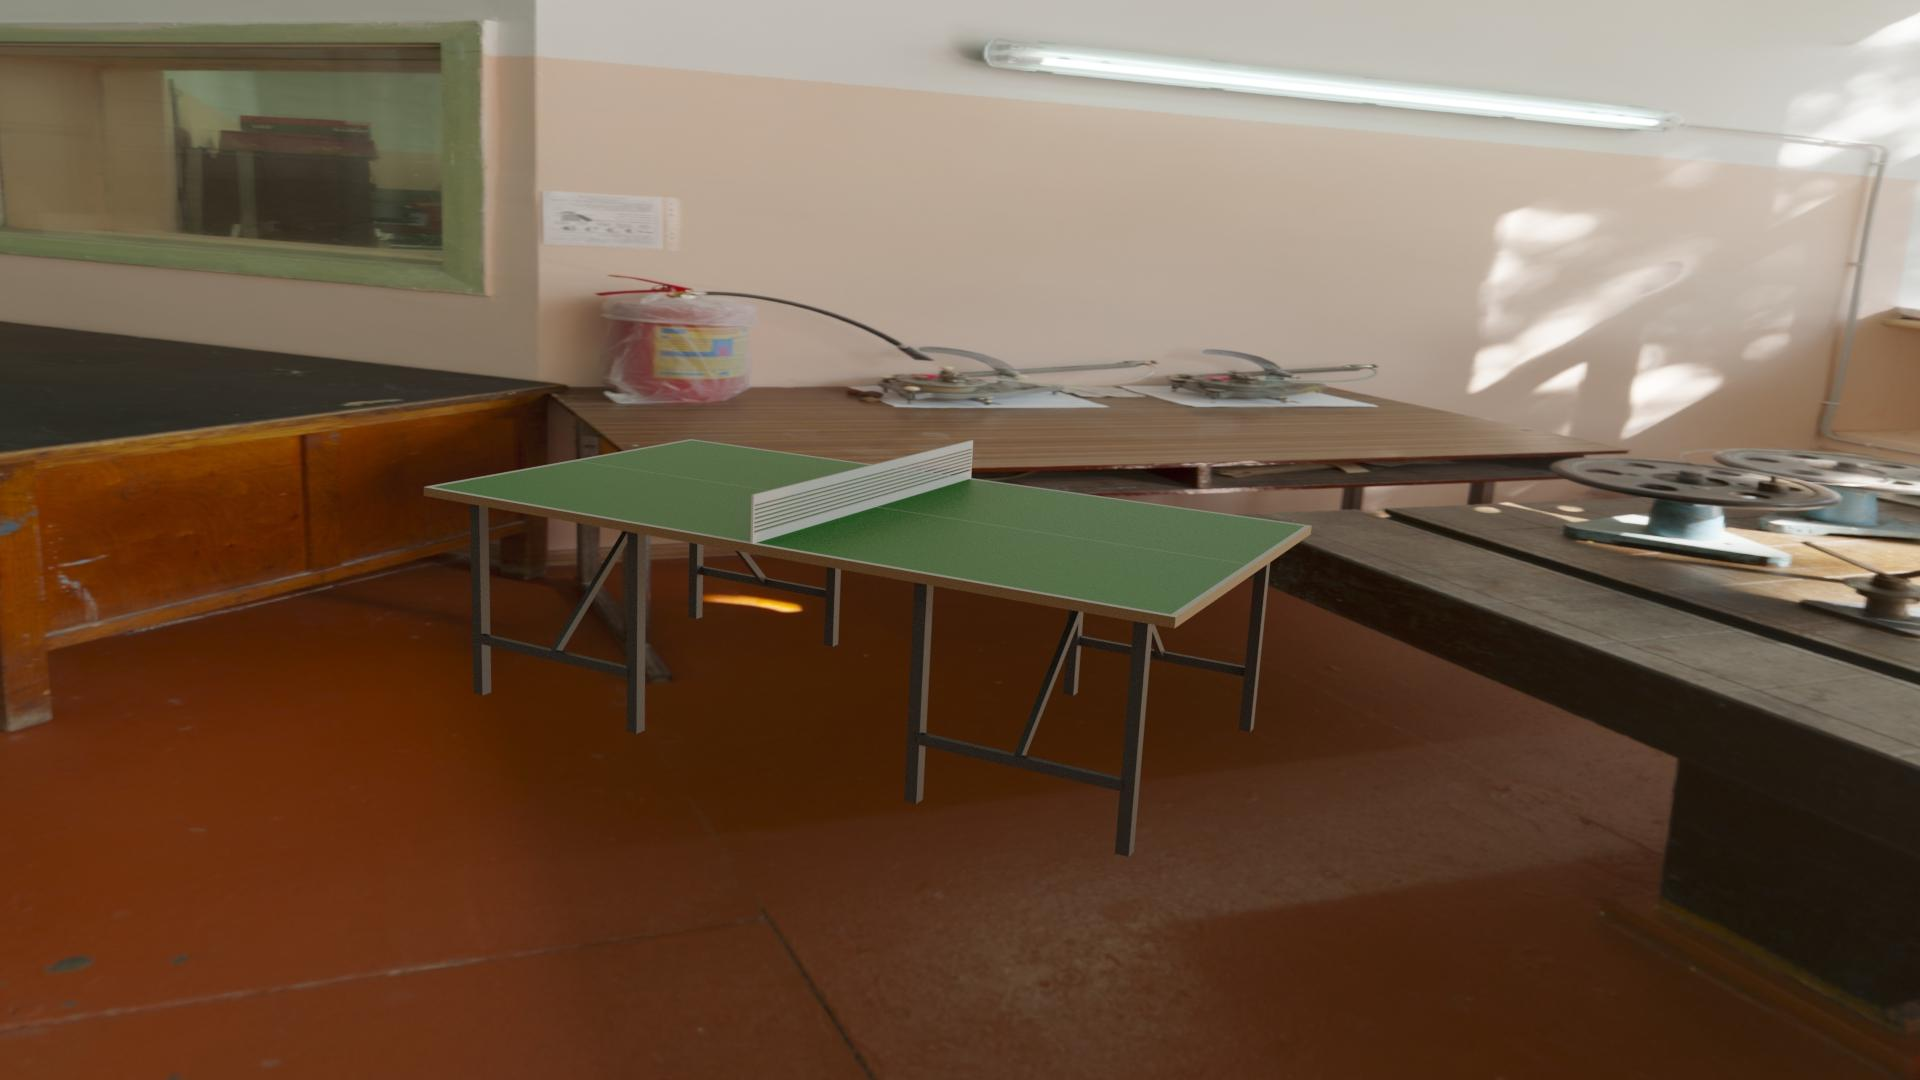table: (433, 440, 1304, 615)
